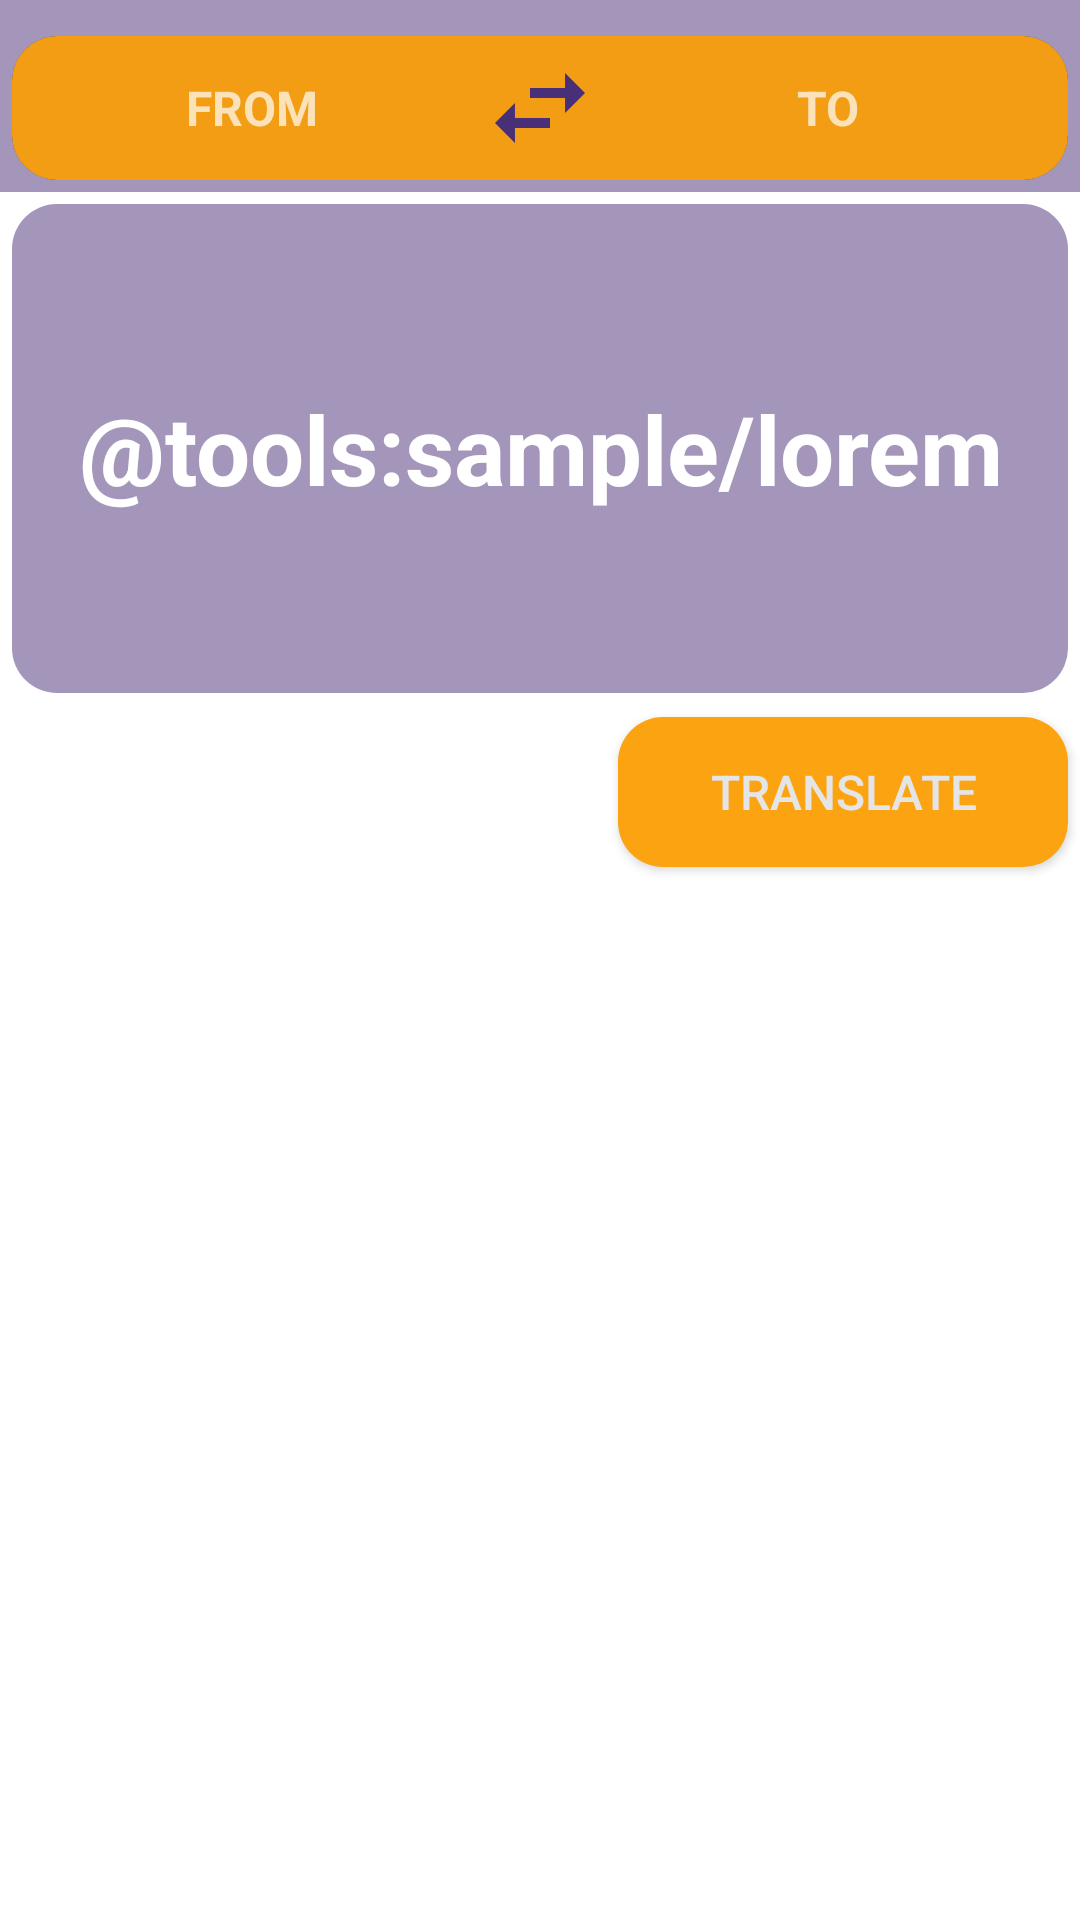

Where to tap for icons on this 1080*1920 app screen, as point (x, y):
swap: point (540, 108)
